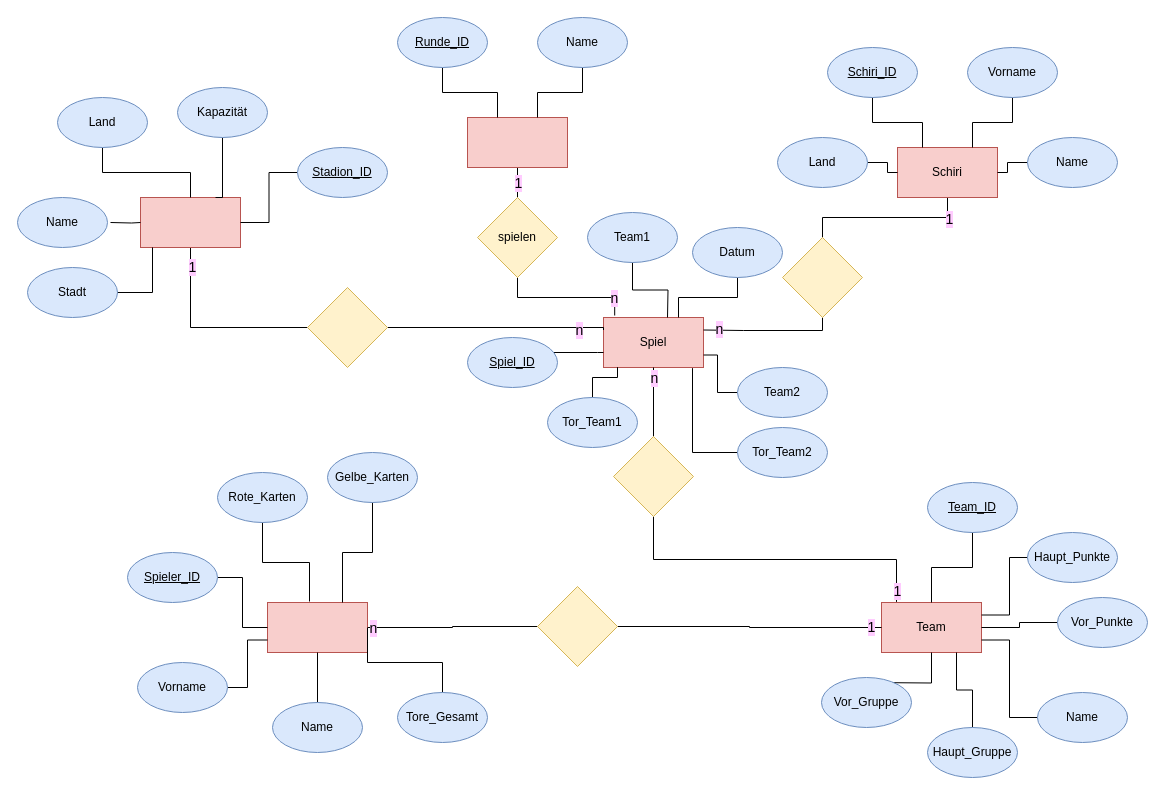
This 1165x795 diagram has some shape labels left out. The centre of each missing label's shape, as x and y in pixels:
"findet statt" belongs at point (347, 327).
"gehört" belongs at point (577, 626).
"pfeift" belongs at point (822, 277).
"Runde" belongs at point (517, 142).
"Spieler" belongs at point (317, 627).
"spielt" belongs at point (653, 476).
"Stadion" belongs at point (190, 222).
